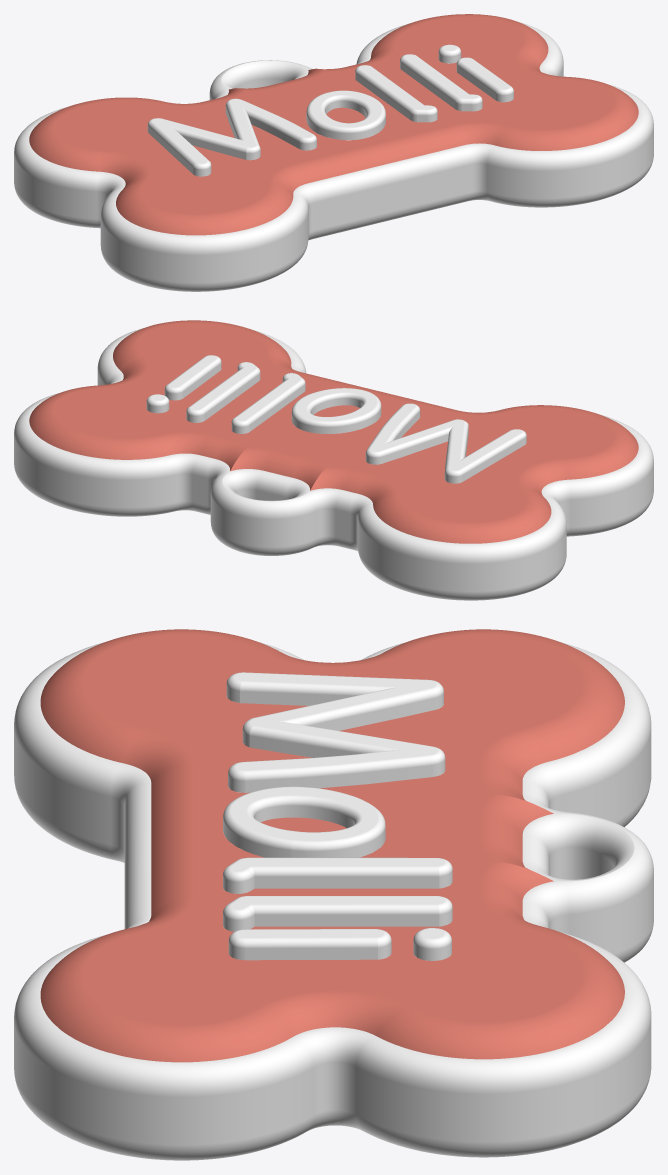
The model's file is Bone_tag.glb.
3 views of the same model, one above another, from view 1: azimuth 30°, elevation 25°; view 2: azimuth 150°, elevation 25°; view 3: azimuth 270°, elevation 25° (orthographic). The views are drawn at different scales.
Size of the model in its own units: 0.0405 by 0.00558 by 0.0244.
